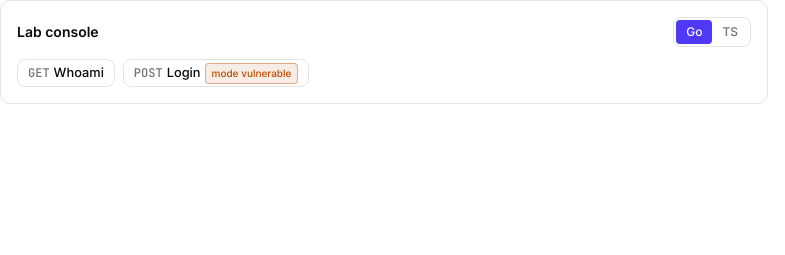
it: LabConsole › sends with credentials, adds X-Lab-Mode for vulnerable actions and shows the response
This screenshot has width=785, height=255.
Later steps or results of the test are not shown.
Expected: the text "mode vulnerable" is shown, x1=204 y1=62 x2=298 y2=84
Click the button "POST Login mode vulnerable": x=216, y=73 x1=123 y1=59 x2=309 y2=87
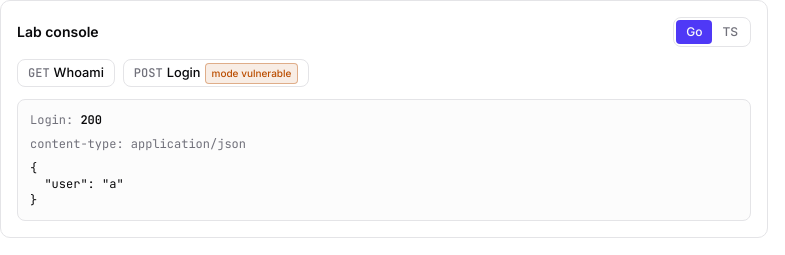
Expected: the text "POST" is shown, x1=134 y1=65 x2=163 y2=81
Expected: the text "{ \"user\": \"a\" }" is shown, x1=30 y1=160 x2=124 y2=208
Expected: the text "200" is shown, x1=80 y1=112 x2=102 y2=128
